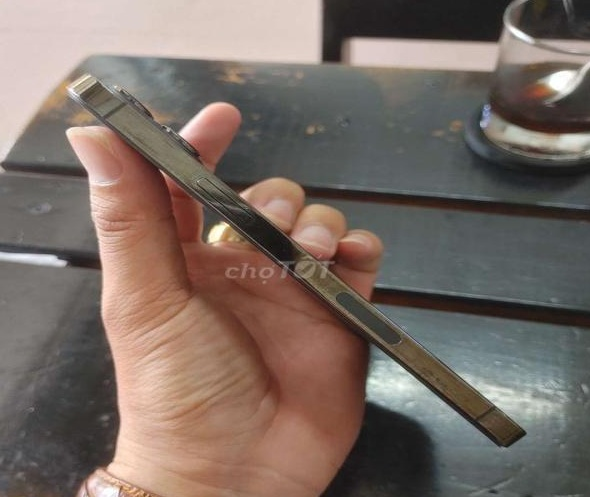scratch: (394, 336, 507, 434), (110, 108, 211, 194), (287, 252, 347, 309)
